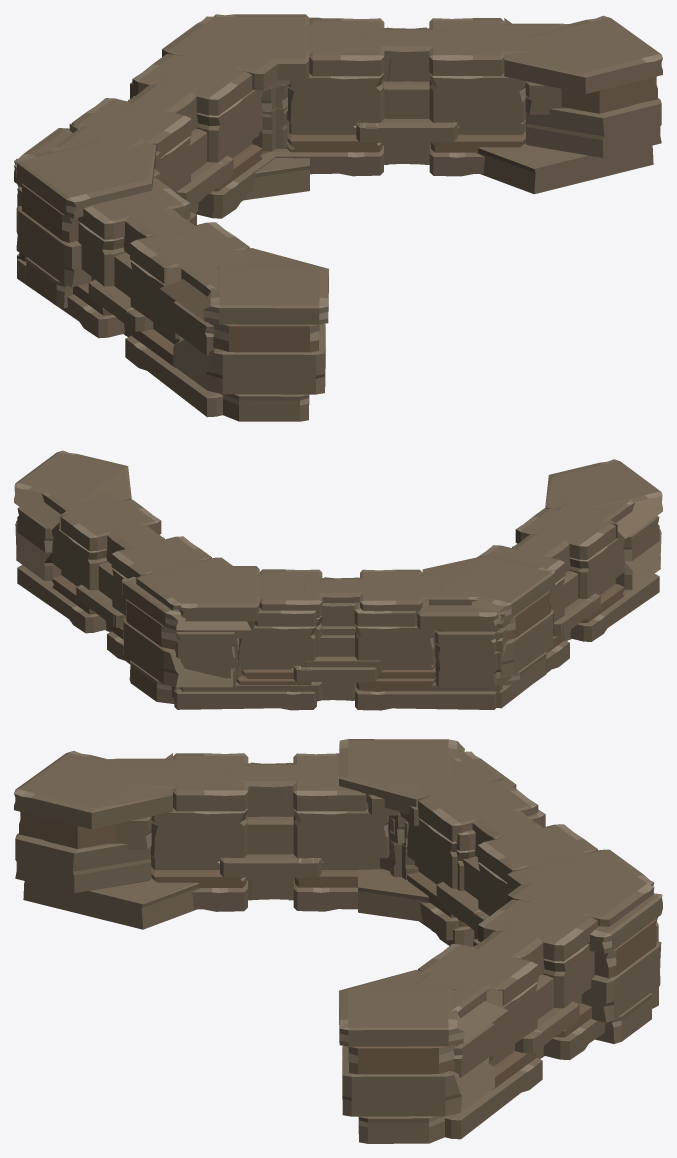
Rendered from three.glb.
3 views of the same model, one above another, from view 1: azimuth 30°, elevation 25°; view 2: azimuth 150°, elevation 25°; view 3: azimuth 270°, elevation 25° (orthographic). The views are drawn at different scales.
Visible parts, largest first — view 1: Wall_Modular.001; view 2: Wall_Modular.001; view 3: Wall_Modular.001.
Part boxes in pixels (x1,y1,x2,y2): Wall_Modular.001: (14, 14, 662, 421); Wall_Modular.001: (14, 450, 662, 710); Wall_Modular.001: (14, 739, 662, 1143).
Size of the model in its own units: 1.95 by 0.3862 by 1.83.
